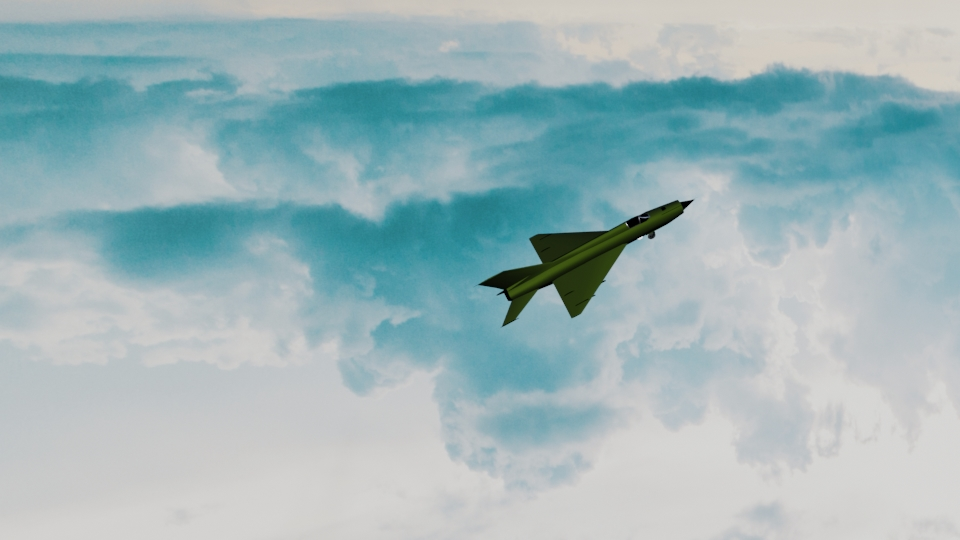plane: (476, 197, 696, 328)
